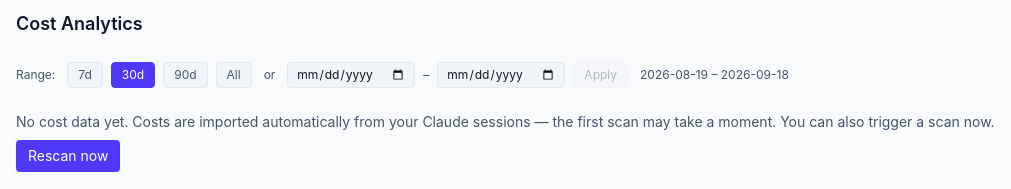
costAnalyticsView › button is disabled while a scan is in flight
The image size is (1011, 189).
Click the button "Rescan now" at coordinates (68, 156), box [16, 140, 120, 172]
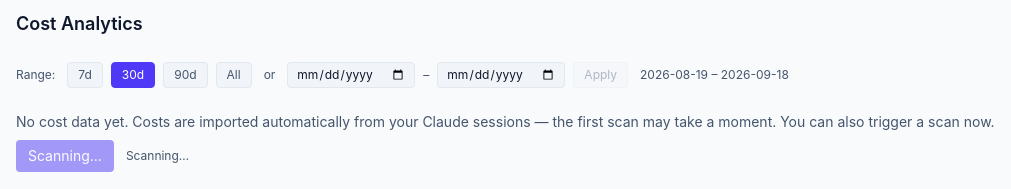
Expected: the button "Scanning…" is disabled, [16, 140, 114, 172]
Expected: the button "Scanning…" is shown, [16, 140, 114, 172]
